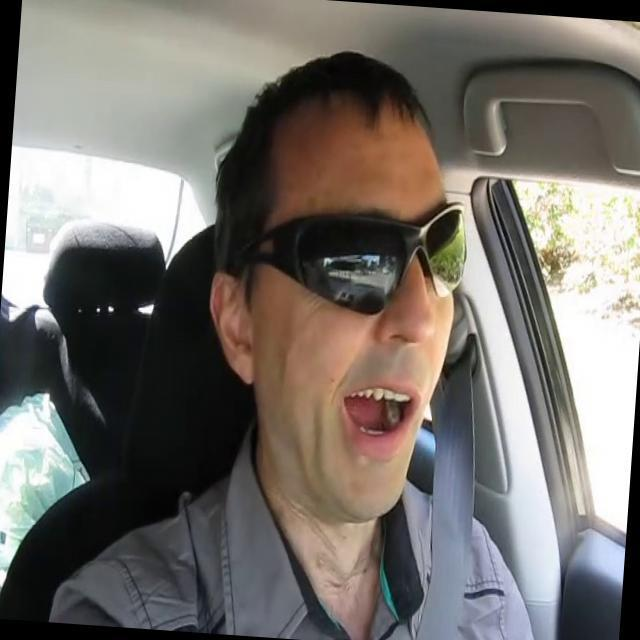open-mouth: (342, 384, 416, 452)
